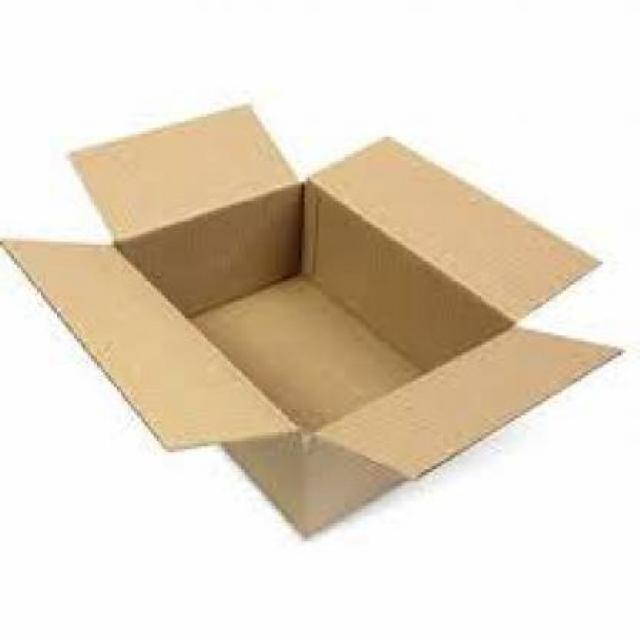box: (6, 103, 629, 535)
